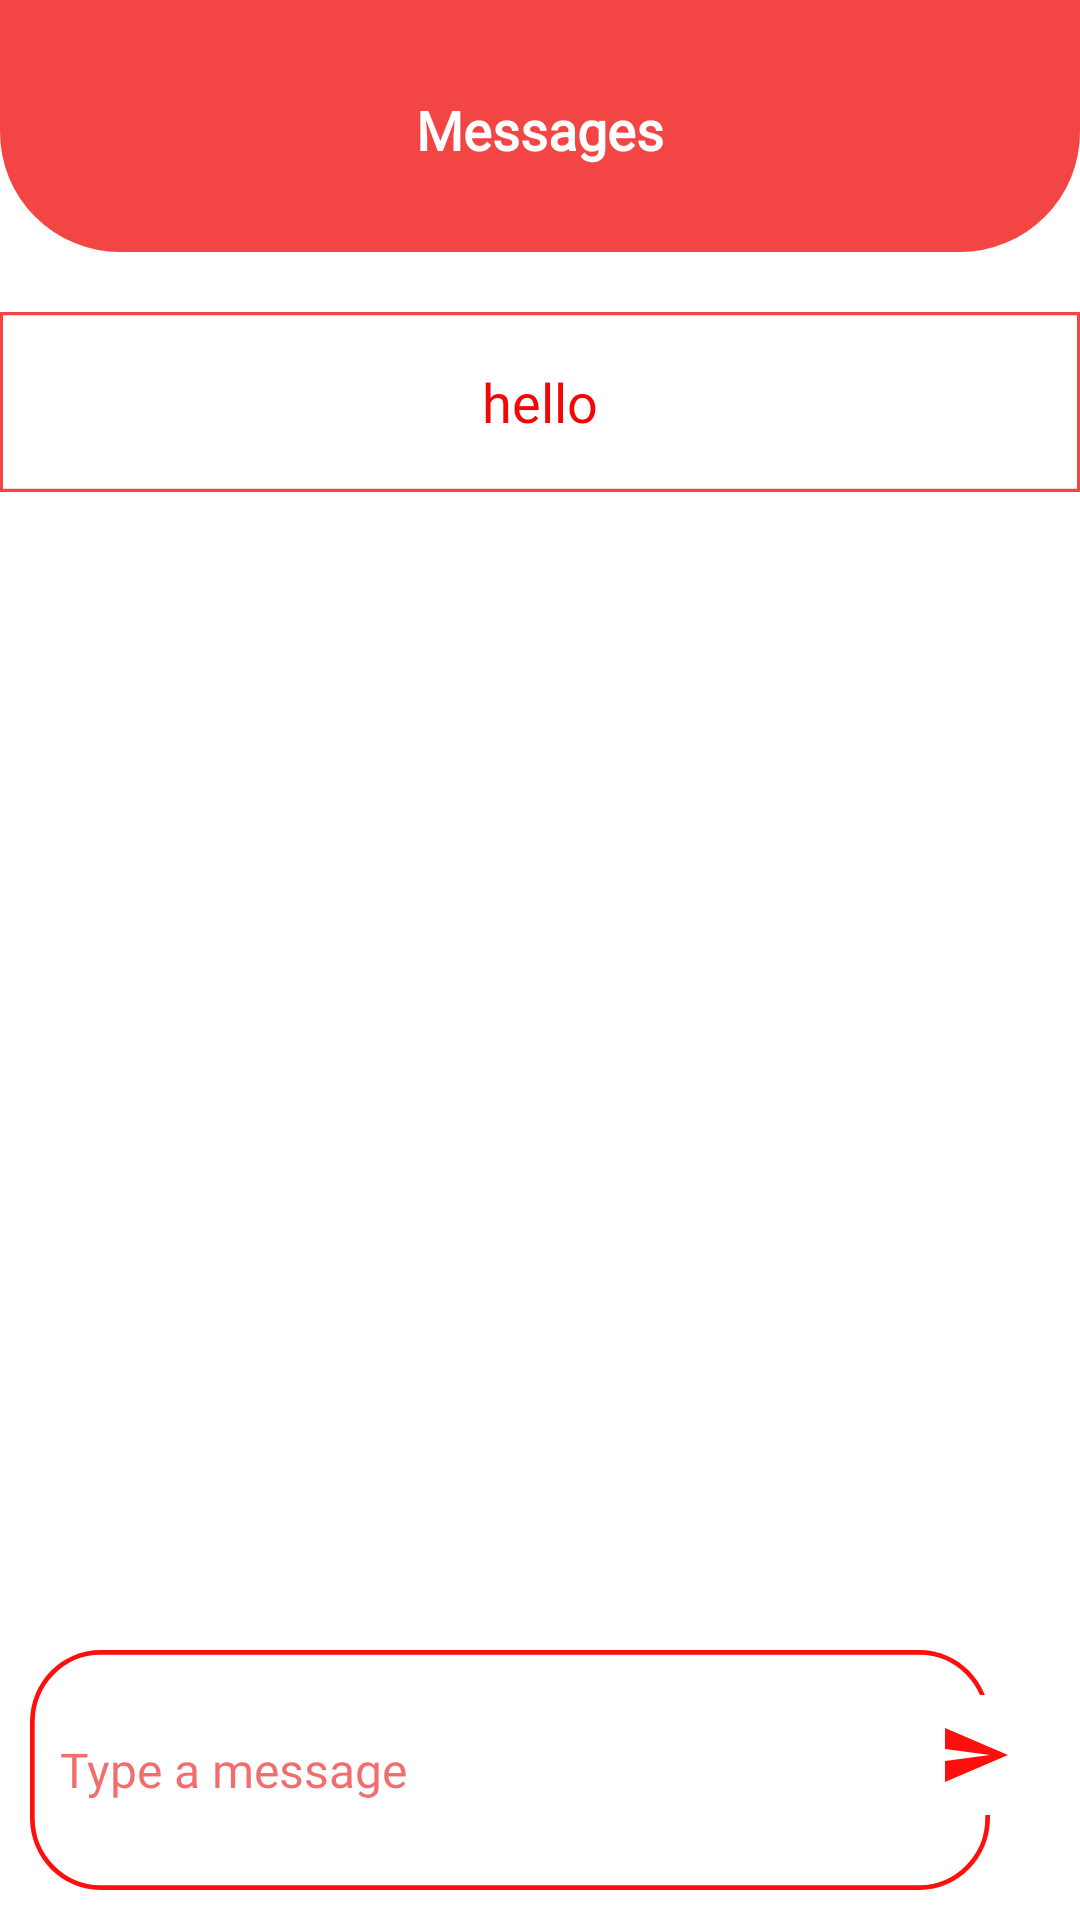

Screen size 1080px×1920px. Icon name, then its center in pixels as [x,y]:
send: [976,1755]
